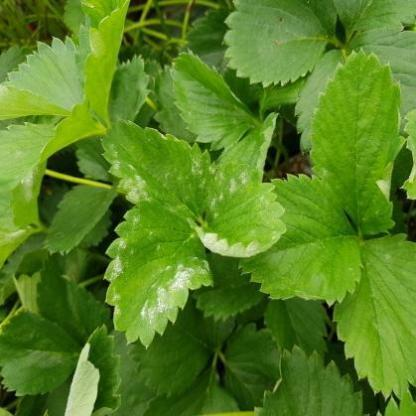Strawberry_Powdery_Mildew_Leaf: (103, 198, 214, 349), (99, 117, 223, 223), (196, 162, 288, 258), (0, 122, 51, 232), (64, 323, 122, 415)
